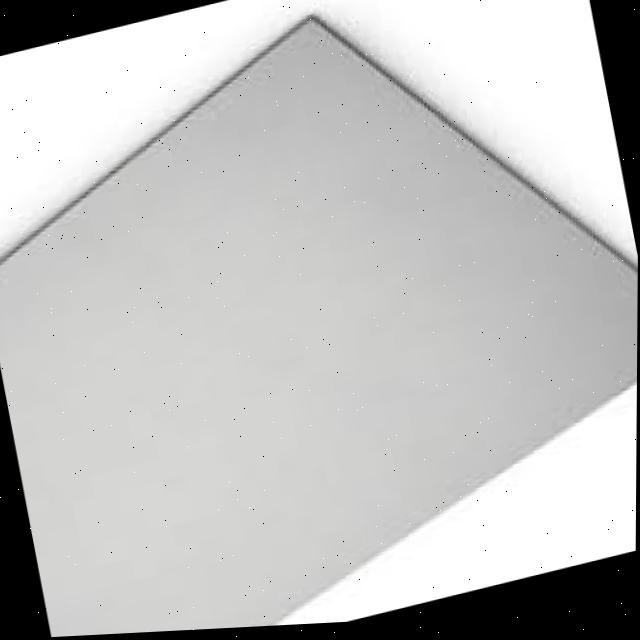Dry: (0, 20, 638, 638)
